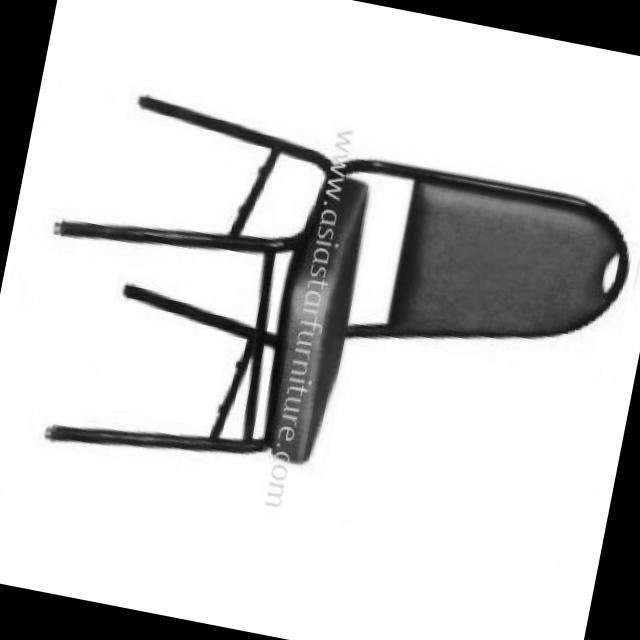chair: (9, 83, 640, 546)
